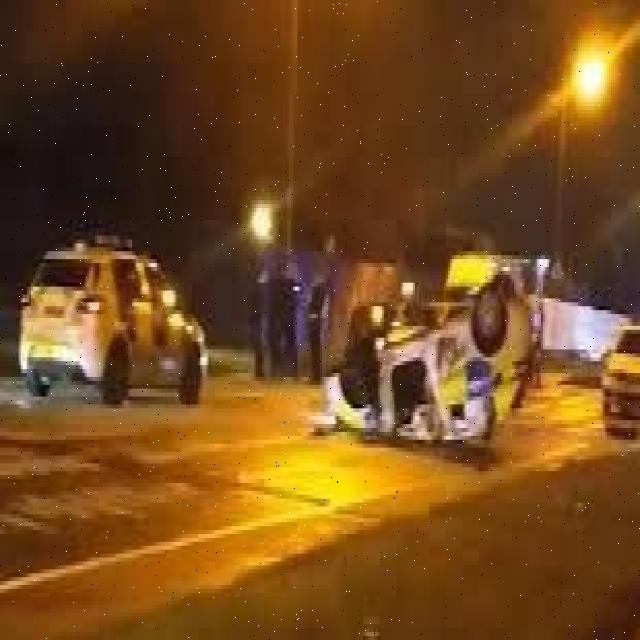severe: (334, 265, 537, 457)
